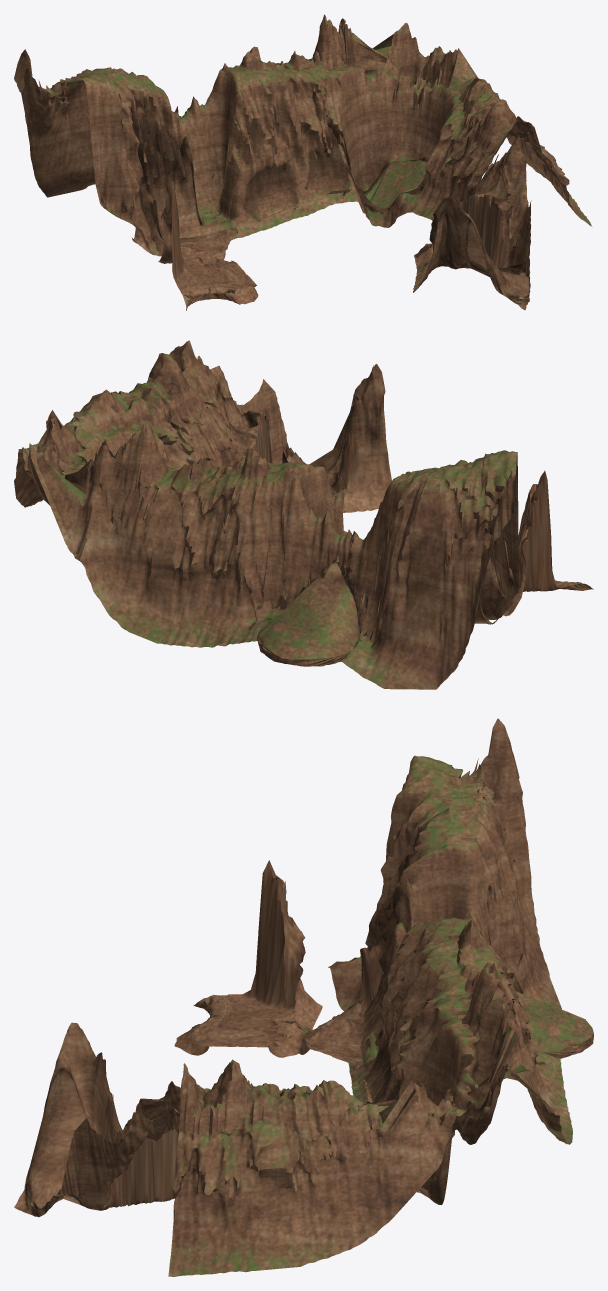
File: island_cliffs.glb
3 views of the same model, one above another, from view 1: azimuth 30°, elevation 25°; view 2: azimuth 150°, elevation 25°; view 3: azimuth 270°, elevation 25° (orthographic). The views are drawn at different scales.
Visible parts, largest first — view 1: Cliffs_LOD0; view 2: Cliffs_LOD0; view 3: Cliffs_LOD0.
Part boxes in pixels (bbox=[...]): Cliffs_LOD0: bbox=[14, 14, 591, 310]; Cliffs_LOD0: bbox=[14, 340, 593, 689]; Cliffs_LOD0: bbox=[14, 718, 593, 1276].
Size of what is drawn, in the model's own units: 234 by 102 by 190.
1 material, 1 textured.
